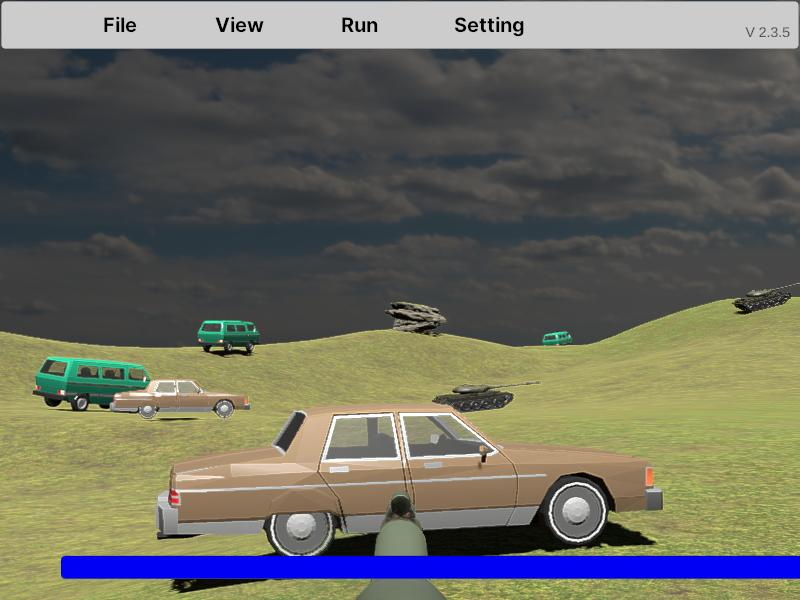Tank: (430, 381, 540, 413), (732, 282, 799, 312)
car: (157, 406, 663, 566), (32, 357, 152, 412), (111, 378, 251, 420), (197, 319, 259, 355)
